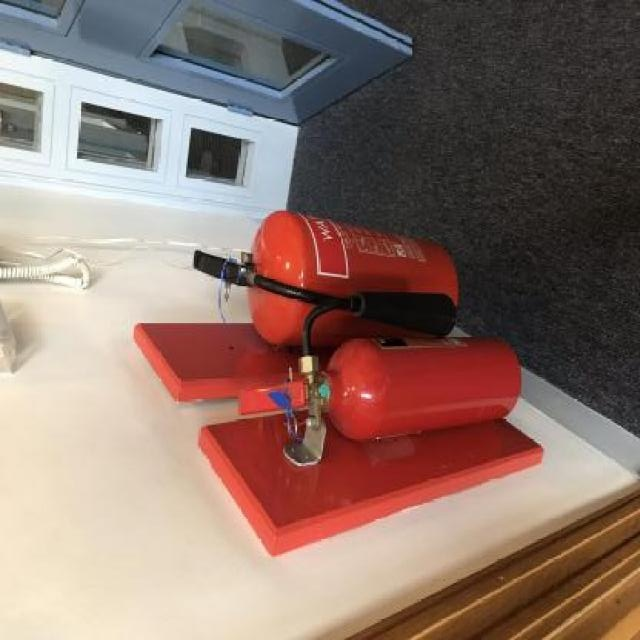fire extinguisher: (236, 291, 521, 443), (192, 210, 460, 348)
